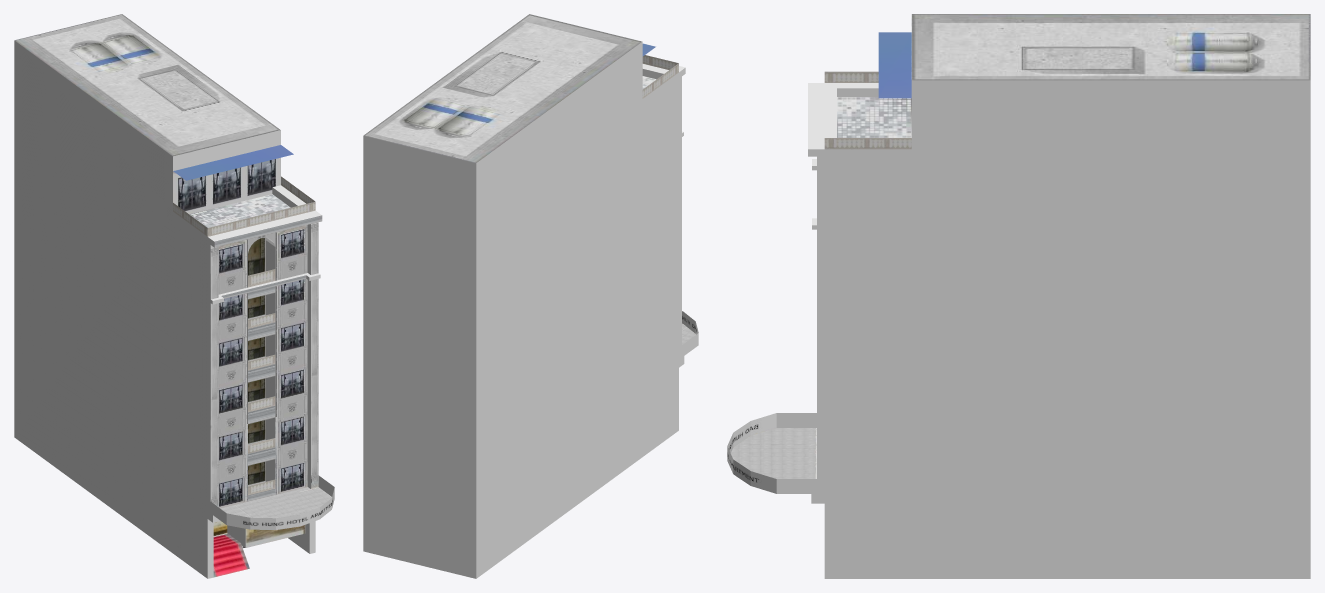
3 renders of one model, left to right at view 1: azimuth 30°, elevation 25°; view 2: azimuth 150°, elevation 25°; view 3: azimuth 270°, elevation 25°, orthographic. The views are drawn at different scales.
Visible parts, largest first — view 1: HN147_bao_hung_hotel___apartment; view 2: HN147_bao_hung_hotel___apartment; view 3: HN147_bao_hung_hotel___apartment.
Part boxes in pixels (<box>): HN147_bao_hung_hotel___apartment: <box>14,14,334,578</box>; HN147_bao_hung_hotel___apartment: <box>363,14,698,578</box>; HN147_bao_hung_hotel___apartment: <box>727,14,1310,578</box>.
Size of the model in its own units: 9.5 by 33.4 by 35.4.
1 material, 1 textured.
